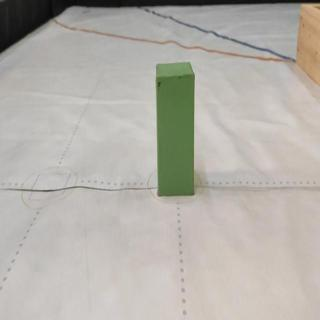greenbox: (154, 62, 196, 195)
